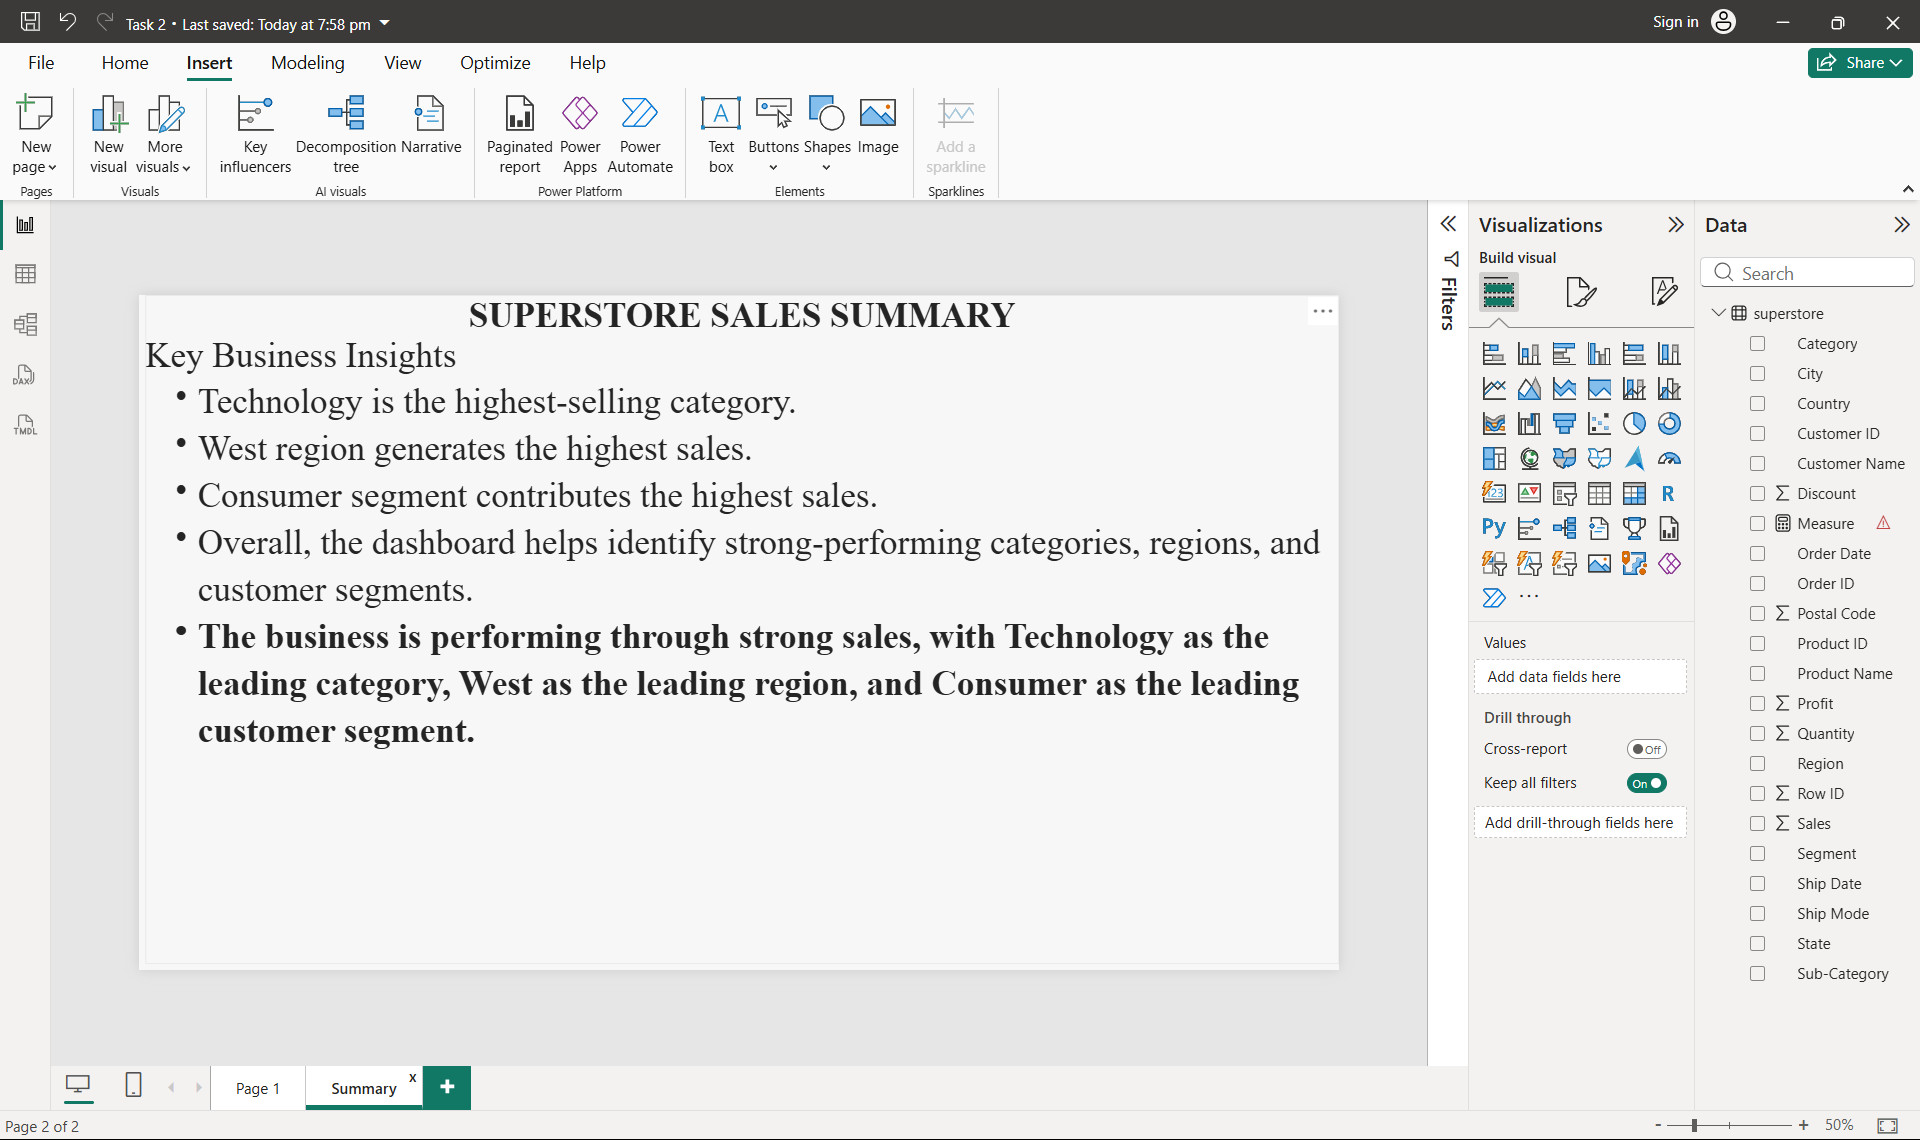

What the dashboard file says about the page in this screenshot:
{"tool":"powerbi","page":{"name":"Summary","canvas":[1920,1080],"ordinal":1},"visuals":[{"type":"textbox","box":[10,0,1910,1070],"z":0}]}

Visuals, with their boxes on the page's 1920x1080 design canvas (x1, y1, x2, y2). These are canvas units, not pixel positions in the 1920x1140 screenshot, which may show the page scaled, cropped or inside an application window:
textbox: rect(10, 0, 1920, 1070)
